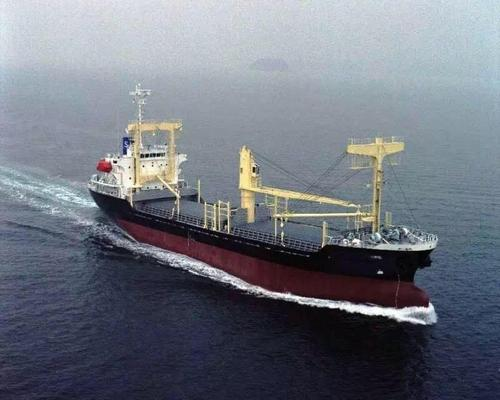Cargoship: (81, 79, 444, 316)
